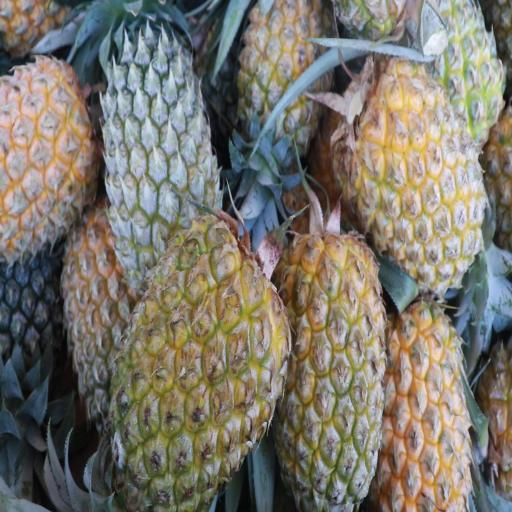------------------------------: (65, 210, 142, 425), (240, 0, 329, 149)
Pineapple - v8 v1: (130, 218, 290, 511), (280, 231, 382, 507), (352, 74, 483, 276), (382, 299, 470, 512), (0, 54, 93, 239)
